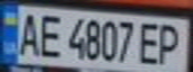0: (100, 17, 121, 63)
4: (63, 13, 87, 60)
7: (115, 18, 139, 64)
8: (81, 16, 103, 61)
A: (12, 9, 42, 57)
E: (33, 10, 63, 58), (136, 19, 163, 65)
P: (154, 20, 187, 68)
